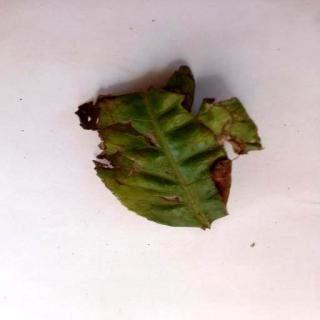Algal Leaf: (82, 63, 267, 231)
